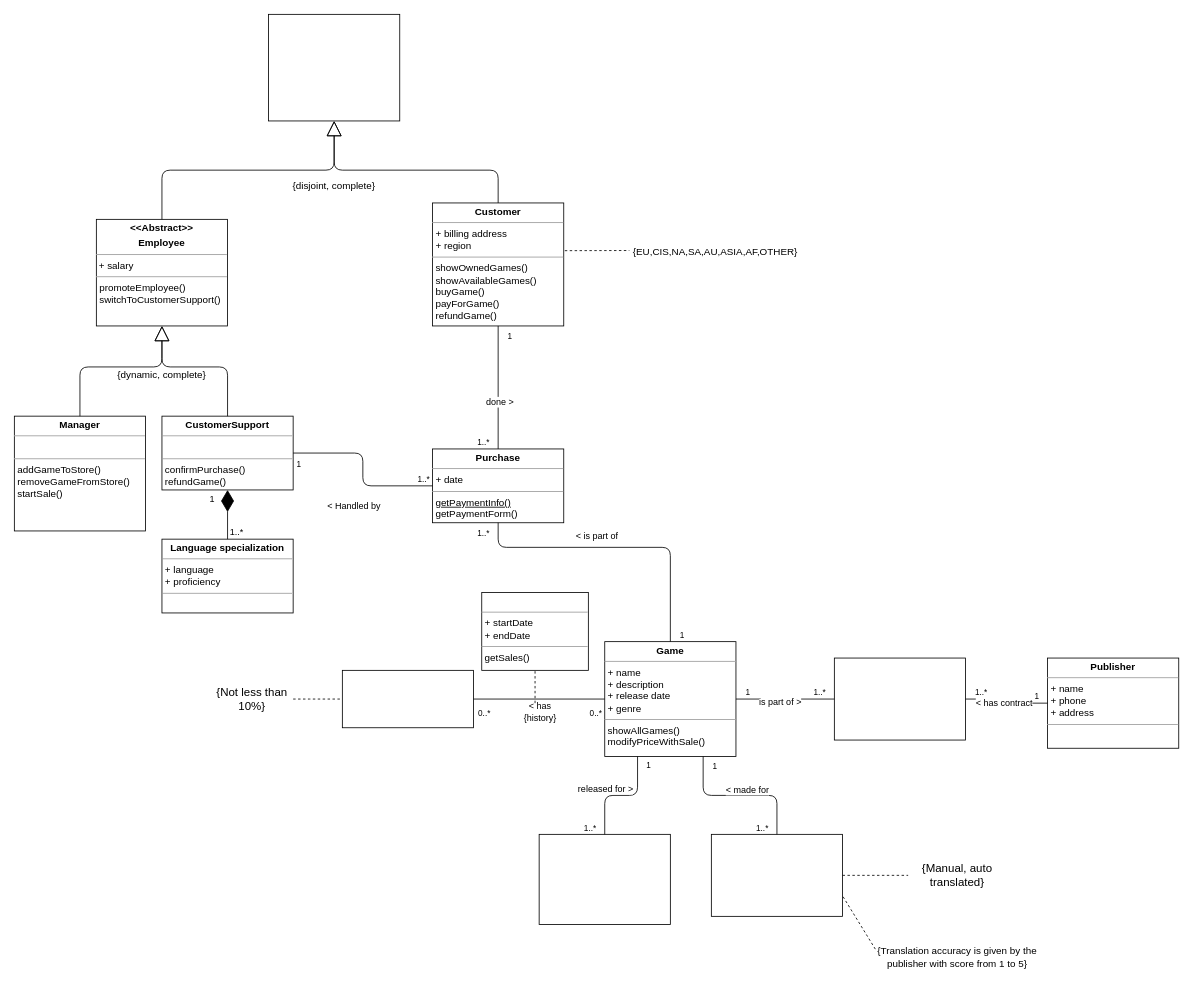
This 1193x983 diagram has some shape labels left out. The box of each missing label's shape, as (x1, y1, x2, y2) in pixels:
<<Abstract>> Person + name + phone + birthday findById(): (268, 14, 400, 121)
Contract + signed date + released platforms: (834, 657, 966, 740)
Localization + language + translation type + translation accuracy: (711, 834, 843, 916)
Sale + value: (342, 670, 474, 728)
Update + version number + release date + description: (538, 834, 670, 925)
